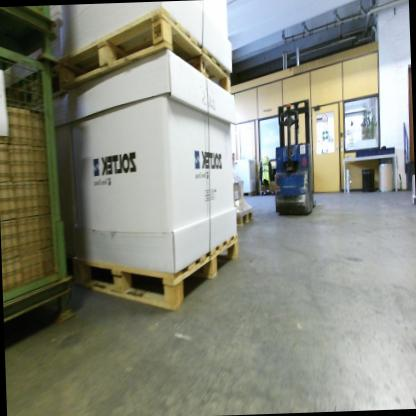pallet: (57, 8, 235, 122), (72, 228, 245, 322), (0, 54, 69, 119), (234, 206, 256, 228), (239, 189, 257, 201), (411, 195, 416, 209)
pallet_truck: (271, 96, 324, 221)
stillage: (0, 38, 80, 353), (0, 7, 71, 62)
